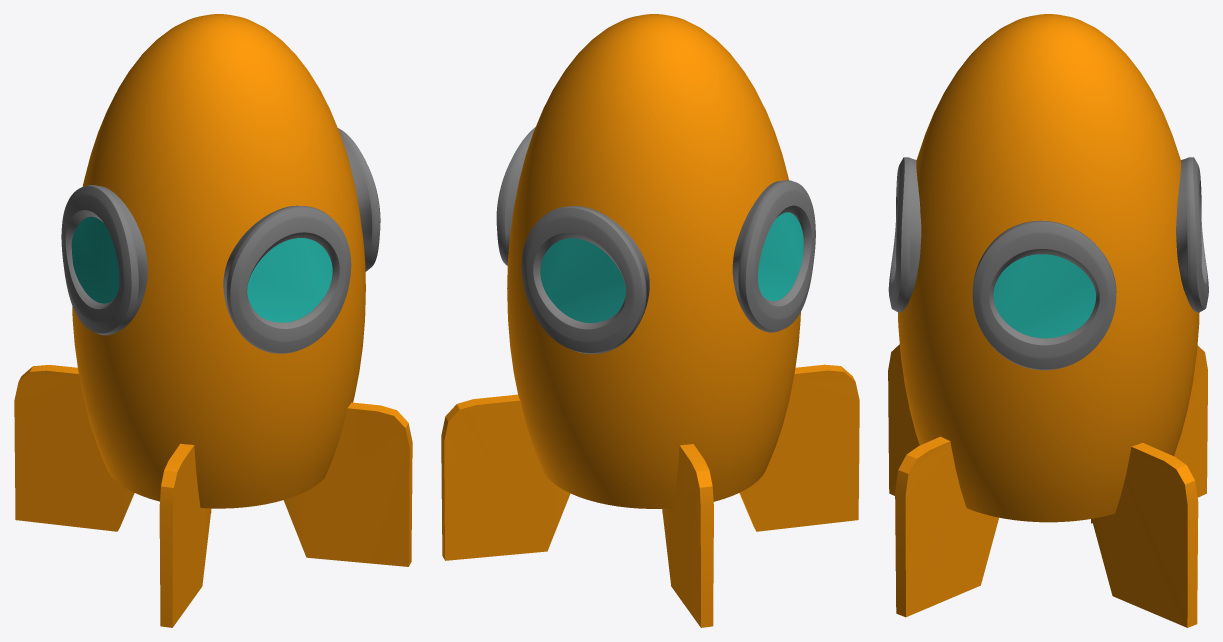
Rendered from yellowRocket.FBX.
3 views of the same model, side by side, from view 1: azimuth 30°, elevation 25°; view 2: azimuth 150°, elevation 25°; view 3: azimuth 270°, elevation 25° (orthographic). The views are drawn at different scales.
Visible parts, largest first — view 1: Sphere001; view 2: Sphere001; view 3: Sphere001.
Boxes of the visible parts, bbox=[...] form: Sphere001: bbox=[14, 14, 412, 627]; Sphere001: bbox=[441, 14, 859, 627]; Sphere001: bbox=[888, 14, 1208, 627].
Bounding box in the file's own units: 47.49 × 84.51 × 45.88.
